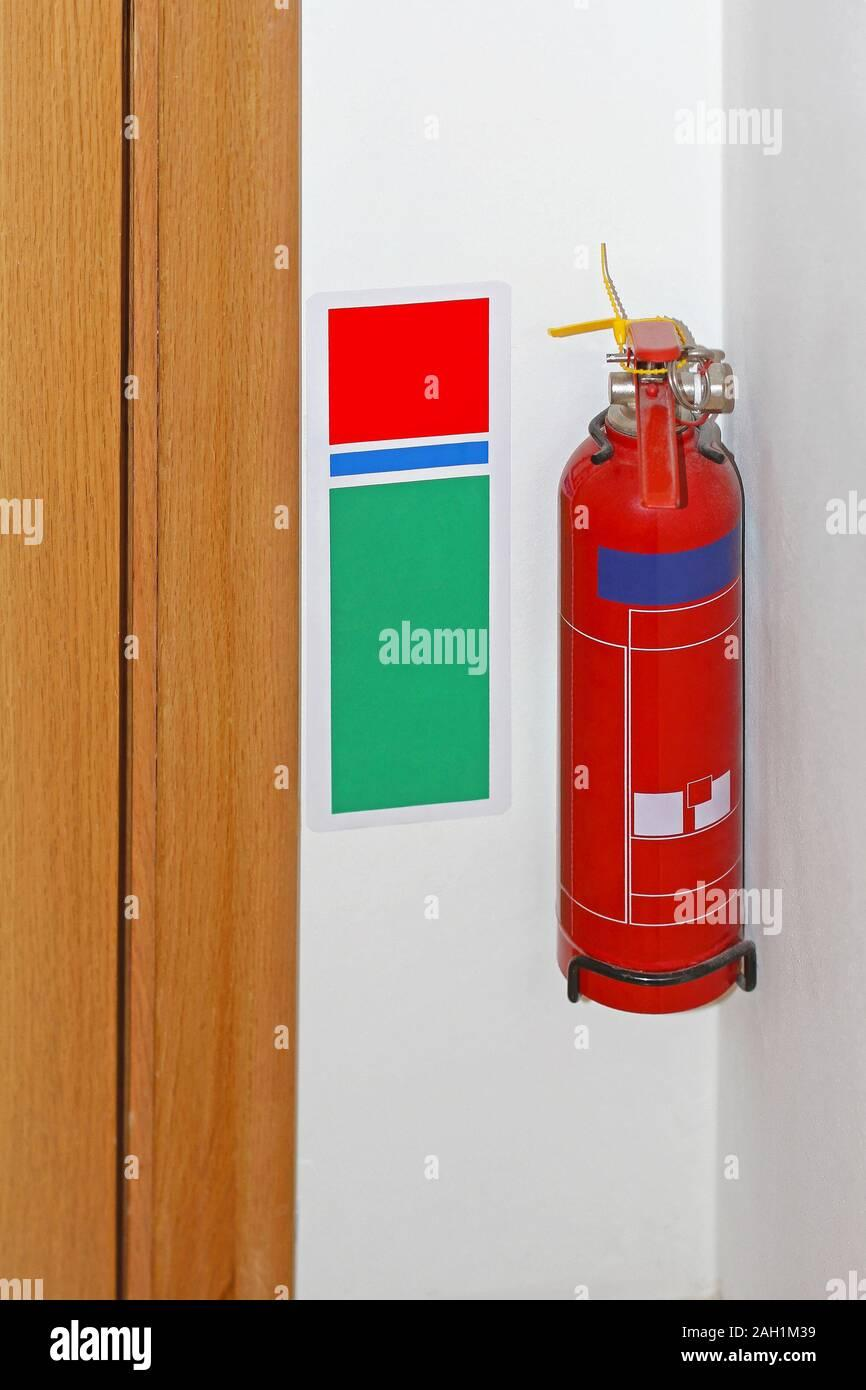wall-mounted: (464, 230, 802, 1066)
